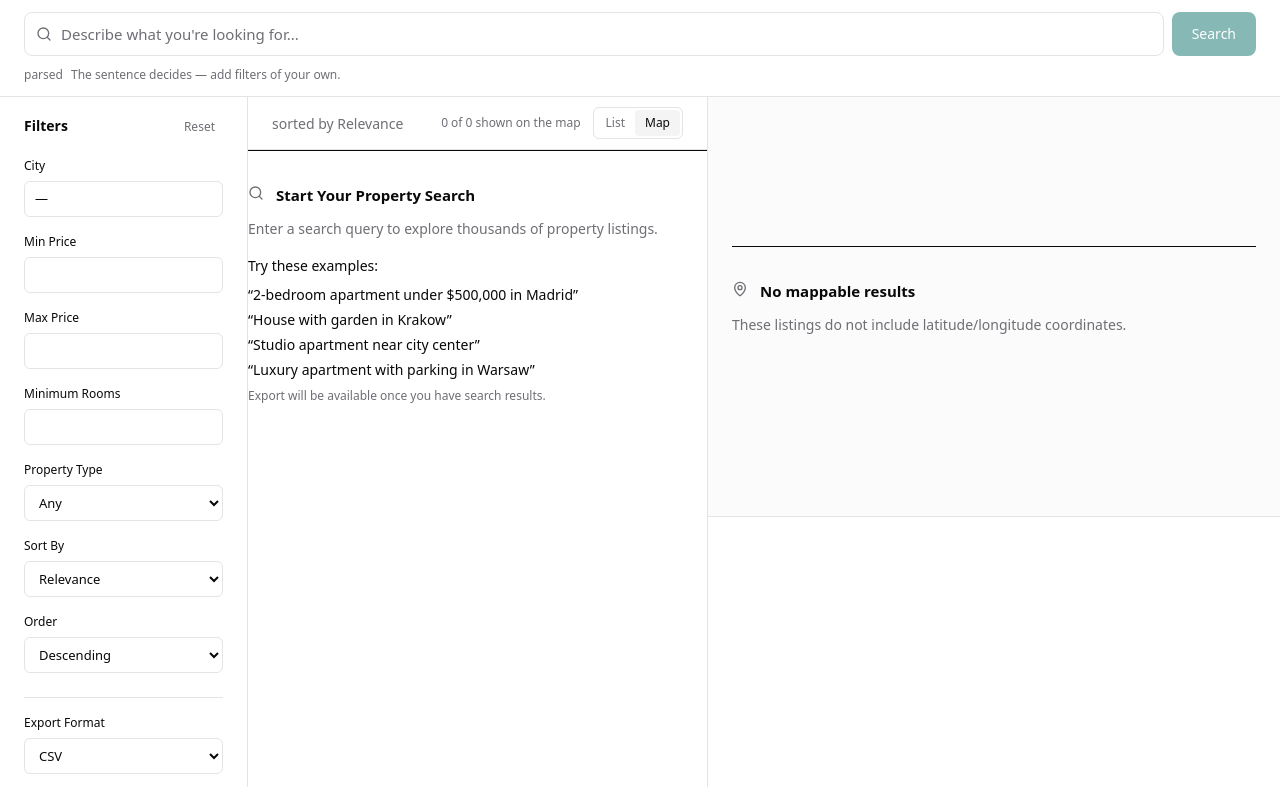
SearchPage › displays error message on failure
This screenshot has width=1280, height=787.
Type "Error" into the field named "Search query". click: (594, 34)
box: [24, 12, 1164, 56]
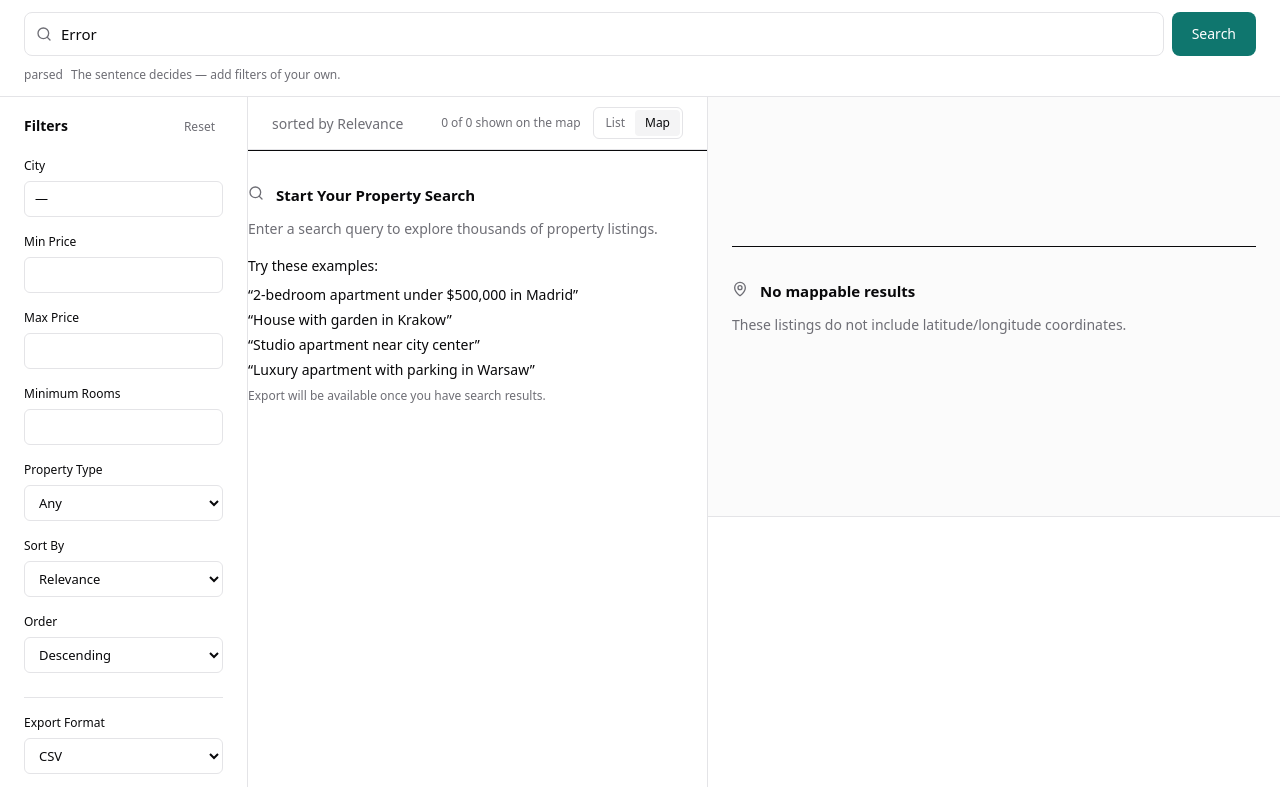
Click the button "Search". click: click(1214, 34)
box: [1172, 12, 1256, 56]
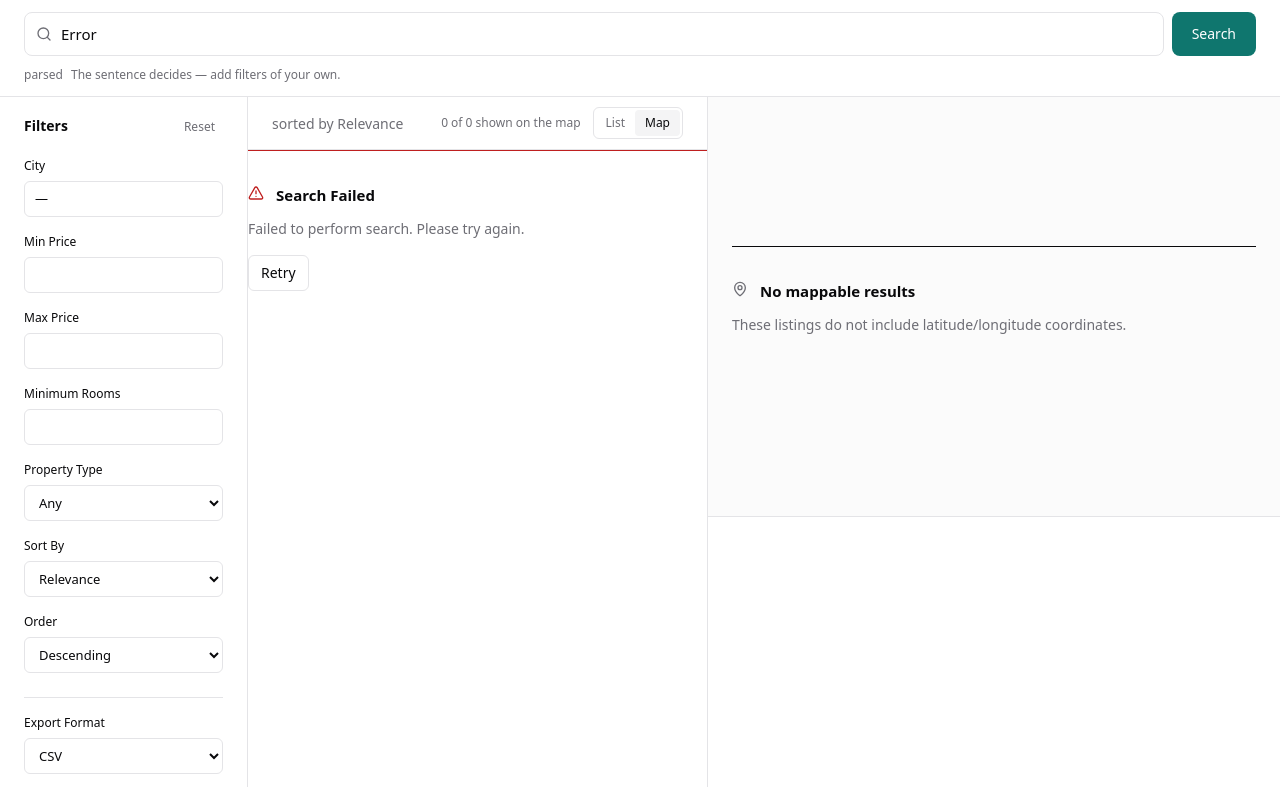
Expected: the text "Failed to perform search. Please try again." is shown, [248, 219, 524, 239]
